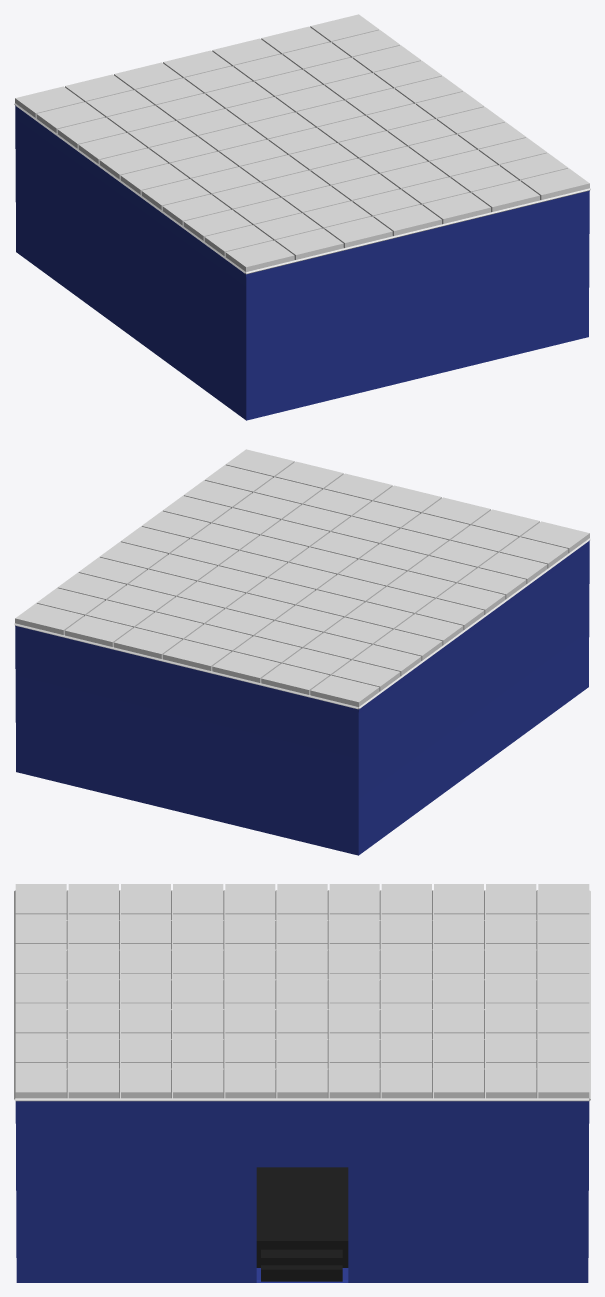
The model's file is PaintingRoom.fbx.
The picture shows the model from 3 angles, top to bottom: view 1: azimuth 30°, elevation 25°; view 2: azimuth 150°, elevation 25°; view 3: azimuth 270°, elevation 25°; orthographic projection. The views are drawn at different scales.
Visible parts, largest first — view 1: Box001, Plane004, Plane003; view 2: Box001, Plane004, Plane003; view 3: Plane004, Box001, Object003, Plane003.
Part boxes in pixels (<box>): Box001: <box>15,105,589,420</box>; Plane004: <box>15,14,589,274</box>; Plane003: <box>14,103,590,274</box>; Box001: <box>15,540,589,855</box>; Plane004: <box>15,449,589,709</box>; Plane003: <box>14,538,590,709</box>; Plane004: <box>15,884,589,1098</box>; Box001: <box>15,1101,589,1282</box>; Object003: <box>256,1167,348,1281</box>; Plane003: <box>14,890,590,1101</box>.
Bounding box in the file's own units: 1546 × 752 × 1799.
